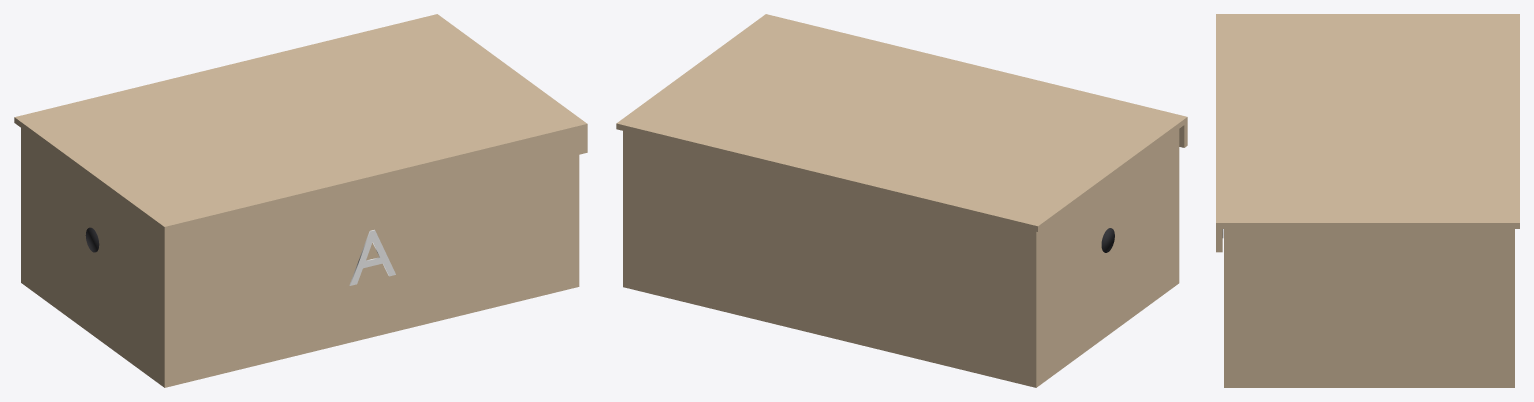
File: shoe_box_dark.glb
The picture shows the model from 3 angles, left to right: view 1: azimuth 30°, elevation 25°; view 2: azimuth 150°, elevation 25°; view 3: azimuth 270°, elevation 25°; orthographic projection.
Visible parts, largest first — view 1: sb_lid, sb_wall_s, sb_wall_w, sb_lid_lip, sb_floor, sb_label, sb_wall_e, sb_wall_n; view 2: sb_lid, sb_wall_n, sb_wall_w, sb_floor, sb_lid_lip, sb_wall_e; view 3: sb_lid, sb_wall_e, sb_floor, sb_lid_lip, sb_wall_s, sb_wall_n.
Part boxes in pixels (left/top/right/bottom): sb_lid: left=14, top=14, right=584, bottom=231; sb_wall_s: left=161, top=156, right=573, bottom=387; sb_wall_w: left=21, top=130, right=170, bottom=387; sb_lid_lip: left=161, top=121, right=587, bottom=255; sb_floor: left=21, top=277, right=578, bottom=387; sb_label: left=349, top=229, right=395, bottom=285; sb_wall_e: left=574, top=155, right=579, bottom=287; sb_wall_n: left=21, top=128, right=24, bottom=284; sb_lid: left=616, top=15, right=1185, bottom=231; sb_wall_n: left=628, top=132, right=1038, bottom=385; sb_wall_w: left=1030, top=129, right=1178, bottom=387; sb_floor: left=623, top=278, right=1178, bottom=387; sb_lid_lip: left=764, top=14, right=1187, bottom=147; sb_wall_e: left=623, top=131, right=628, bottom=285; sb_lid: left=1219, top=14, right=1519, bottom=228; sb_wall_e: left=1224, top=229, right=1514, bottom=387; sb_floor: left=1224, top=382, right=1514, bottom=387; sb_lid_lip: left=1216, top=14, right=1222, bottom=252; sb_wall_s: left=1224, top=229, right=1230, bottom=387; sb_wall_n: left=1508, top=229, right=1514, bottom=387.
Size of the model in its own units: 0.306 by 0.114 by 0.188.
